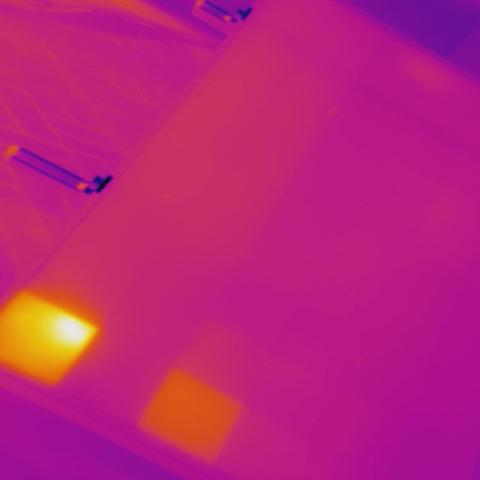fault: (2, 279, 108, 397)
